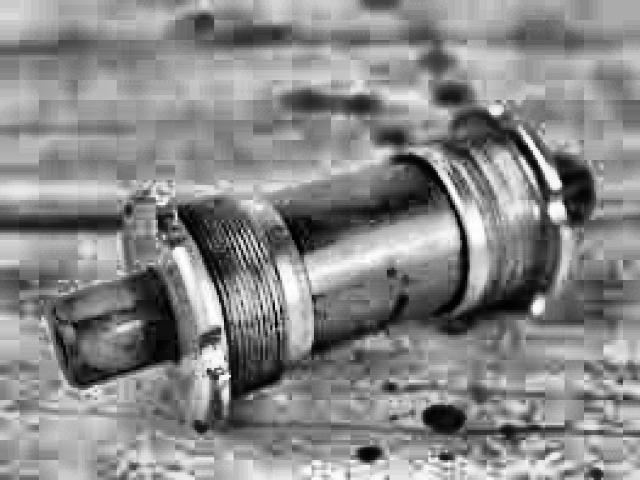bottom_bracket: (48, 100, 596, 436)
